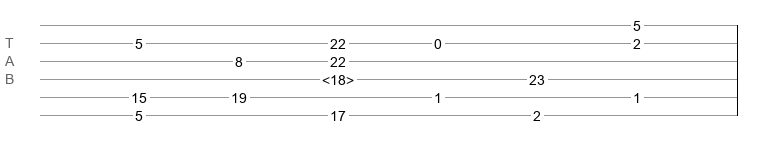0: (434, 36, 442, 46)
1: (434, 90, 442, 100), (633, 90, 641, 100)
15: (131, 90, 147, 100)
17: (330, 108, 346, 118)
19: (231, 90, 247, 100)
2: (533, 108, 541, 118), (633, 36, 641, 46)
22: (330, 54, 346, 64), (330, 36, 346, 46)
23: (529, 72, 545, 82)
5: (135, 36, 143, 46), (135, 108, 143, 118), (633, 18, 641, 28)
8: (235, 54, 243, 64)
harmonic: (322, 72, 354, 82)
